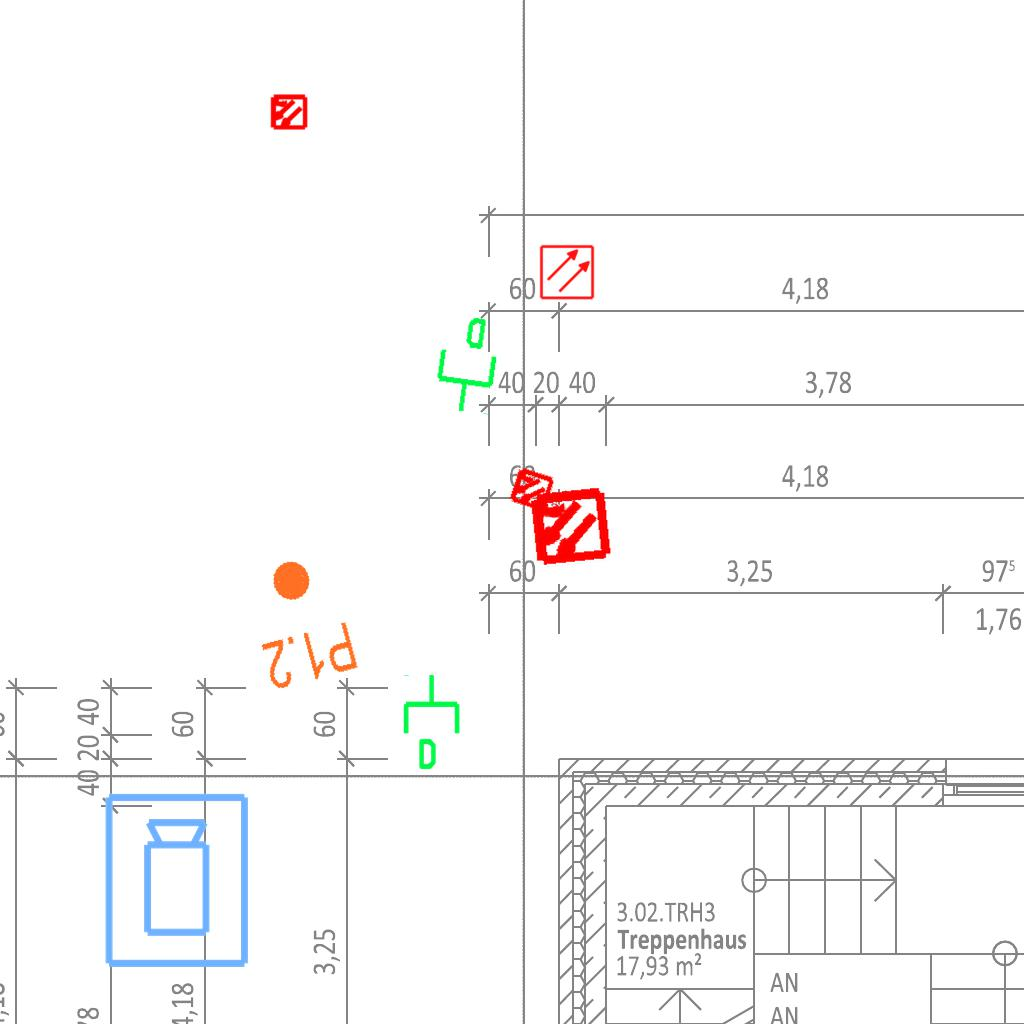Datenanschluss_einfach: (424, 309, 507, 419), (399, 672, 468, 772)
Downlight_LED_Einbauleuchten_Flur: (239, 547, 362, 695)
KFO_Kamera_mit_Festobjektiv: (101, 790, 255, 972)
OT_Multisensormelder_(Kombination_RMO_WMD): (506, 464, 631, 589), (495, 453, 567, 525), (260, 84, 316, 140)
RMO_Rauchmelder_optischer: (539, 244, 595, 300)
